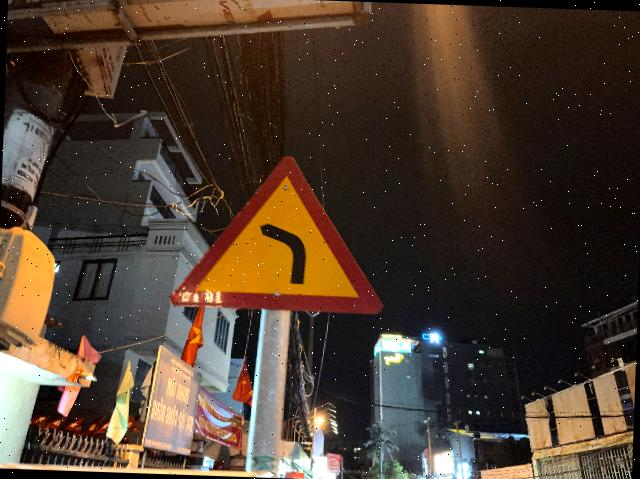cho-ngoat-nguy-hiem-ben-phai: (166, 150, 388, 314)
